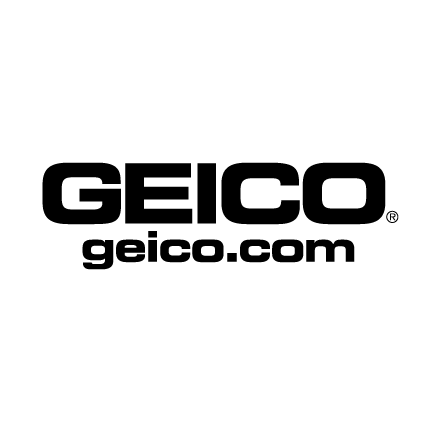geico: (40, 158, 402, 232)
